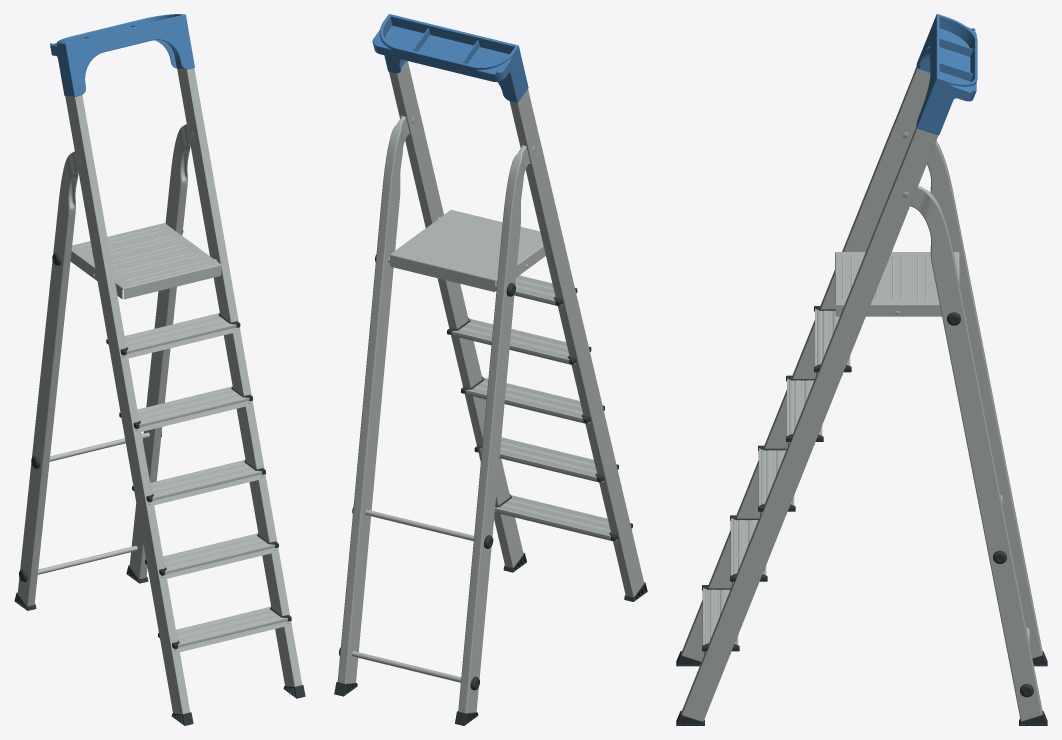
Rendered from ladder_step_aluminium_b05.glb.
The picture shows the model from 3 angles, left to right: view 1: azimuth 30°, elevation 25°; view 2: azimuth 150°, elevation 25°; view 3: azimuth 270°, elevation 25°; orthographic projection. The views are drawn at different scales.
Size of the model in its own units: 0.4857 by 2.18 by 1.13.
